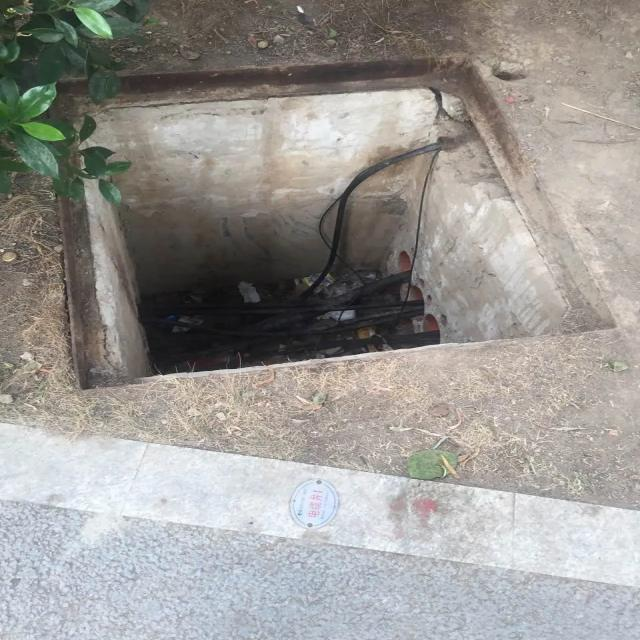manhole: (61, 89, 582, 387)
